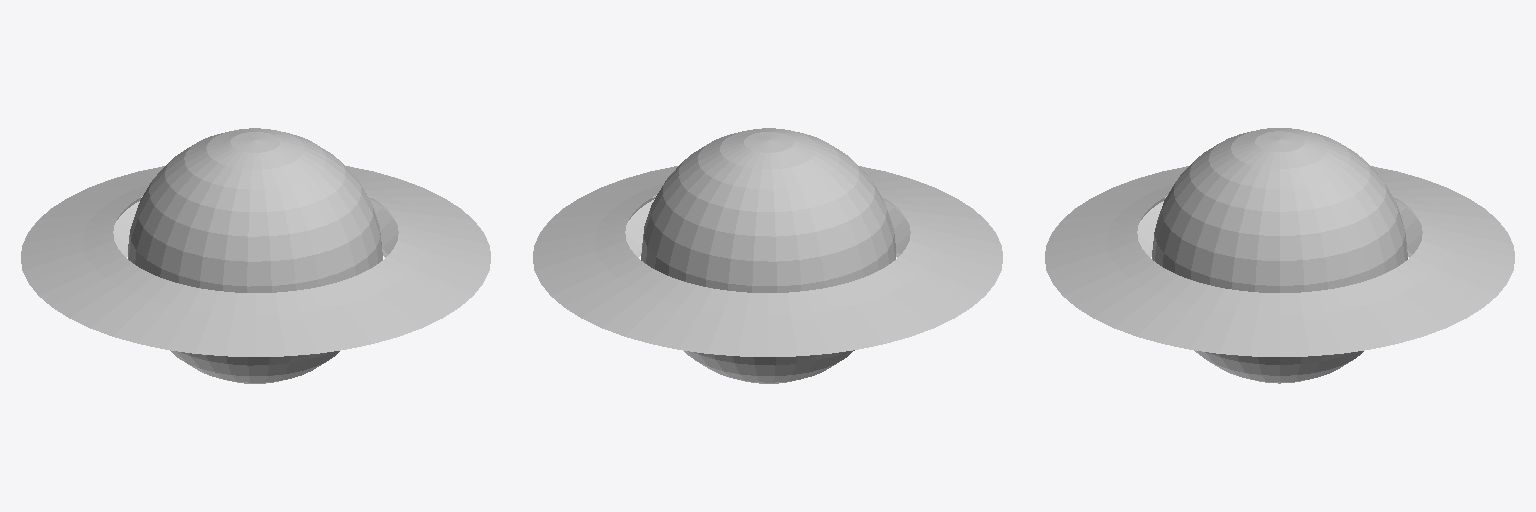
File: planet.obj
The picture shows the model from 3 angles: view 1: azimuth 30°, elevation 25°; view 2: azimuth 150°, elevation 25°; view 3: azimuth 270°, elevation 25°; orthographic projection.
Parts seen in each view (by area): view 1: Torus, Sphere; view 2: Torus, Sphere; view 3: Torus, Sphere.
Boxes of the visible parts, x1=… form: Torus: x1=21, y1=166, x2=490, y2=356; Sphere: x1=128, y1=128, x2=382, y2=383; Torus: x1=533, y1=166, x2=1002, y2=356; Sphere: x1=641, y1=128, x2=896, y2=383; Torus: x1=1045, y1=166, x2=1514, y2=356; Sphere: x1=1152, y1=128, x2=1407, y2=383.
Size of the model in its own units: 6.68 by 3.63 by 6.68.